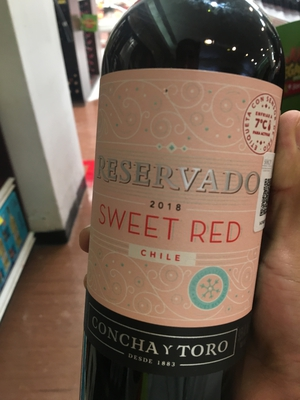reservado sweet red: (85, 1, 287, 400)
